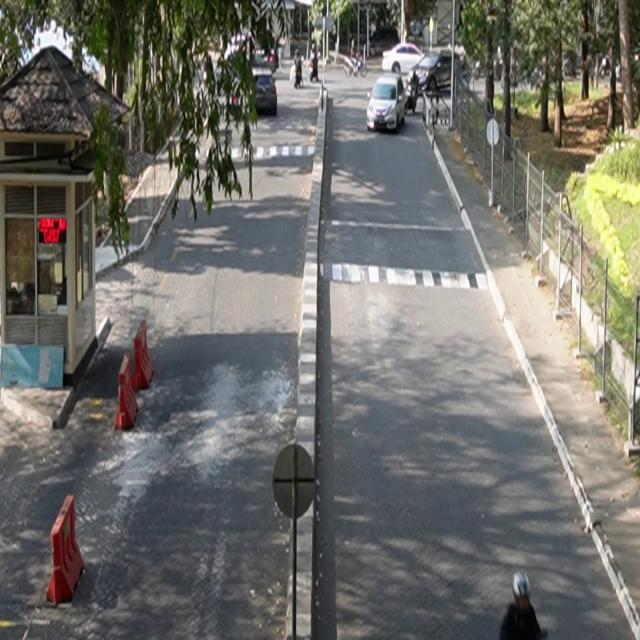car: (367, 73, 408, 133), (383, 44, 425, 75)
